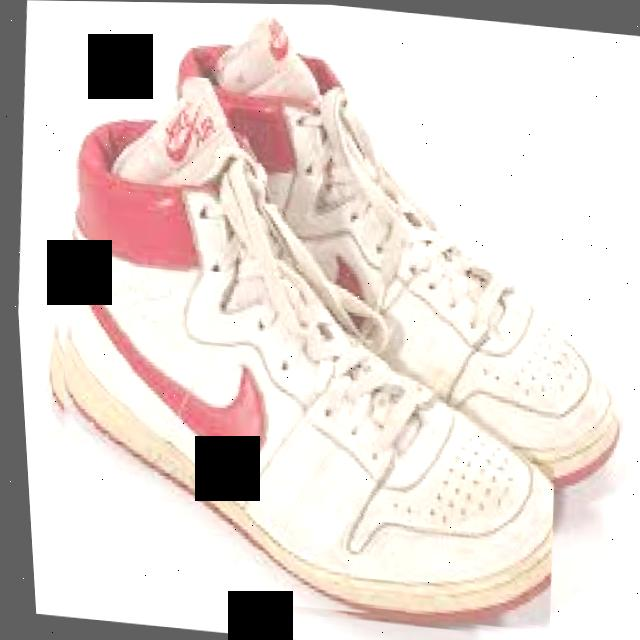shoe: (11, 2, 640, 640), (15, 87, 585, 630)
